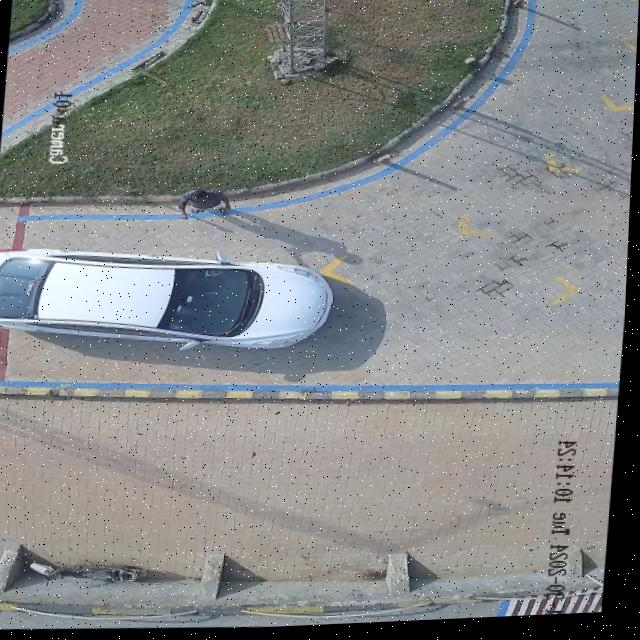car: (0, 249, 333, 355)
